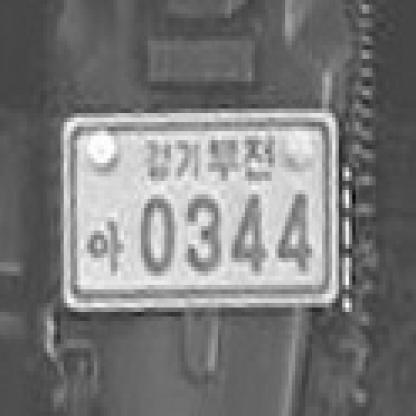bnum: (53, 98, 346, 324)
